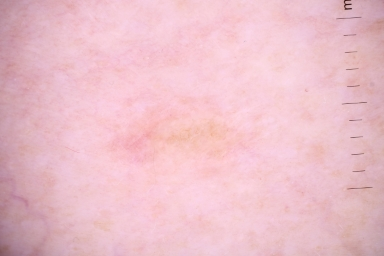melanoma: (92, 69, 256, 184)
